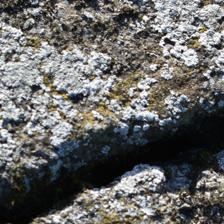Crack: (12, 104, 214, 222)
